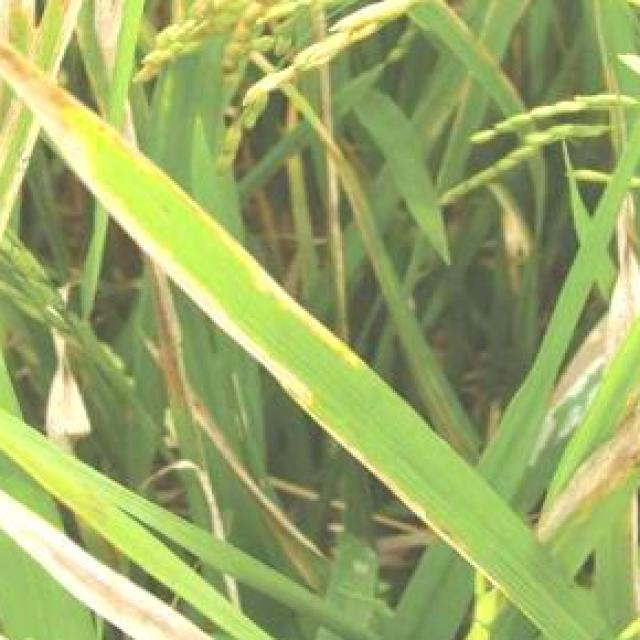Bacterial_Leaf_Blight: (64, 148, 198, 256), (28, 532, 128, 618)
